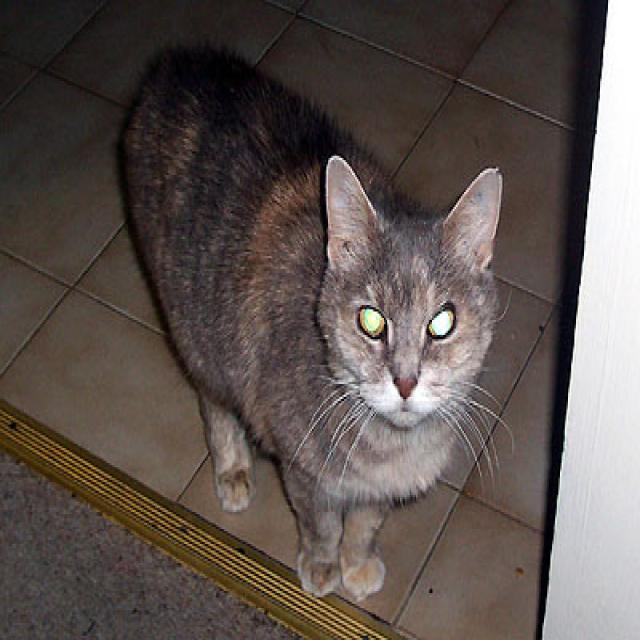cat: (121, 40, 505, 603)
